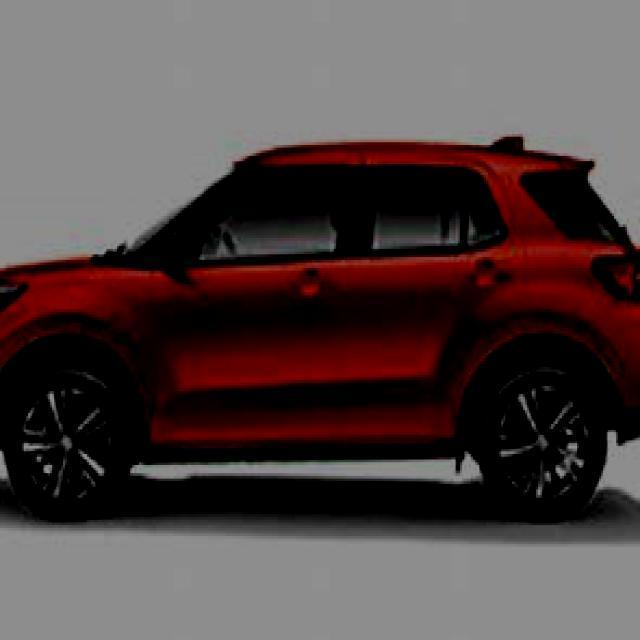PeroduaAtiva: (0, 133, 639, 524)
